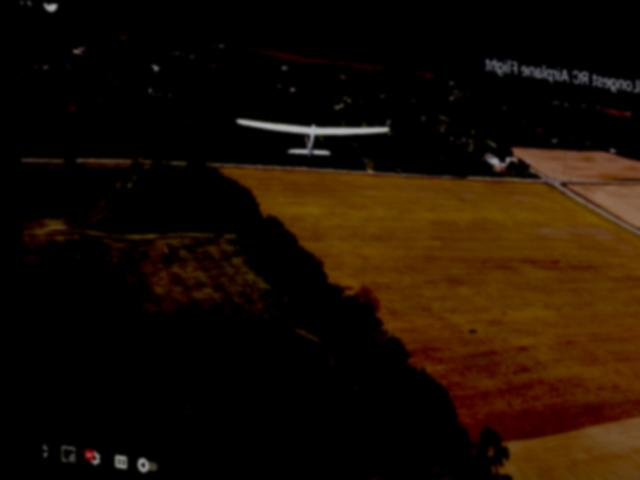plane: (229, 98, 390, 161)
